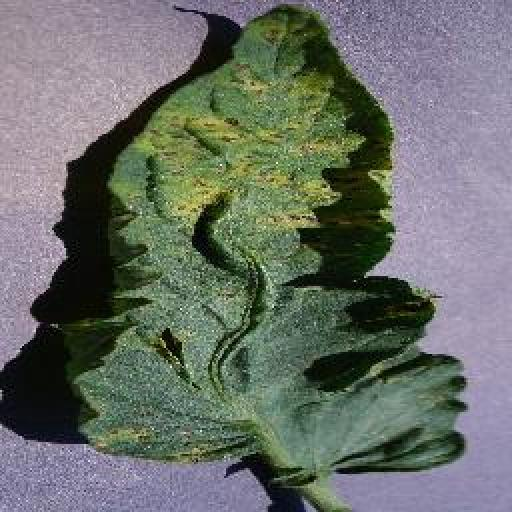disease_tomato: (72, 4, 474, 475)
